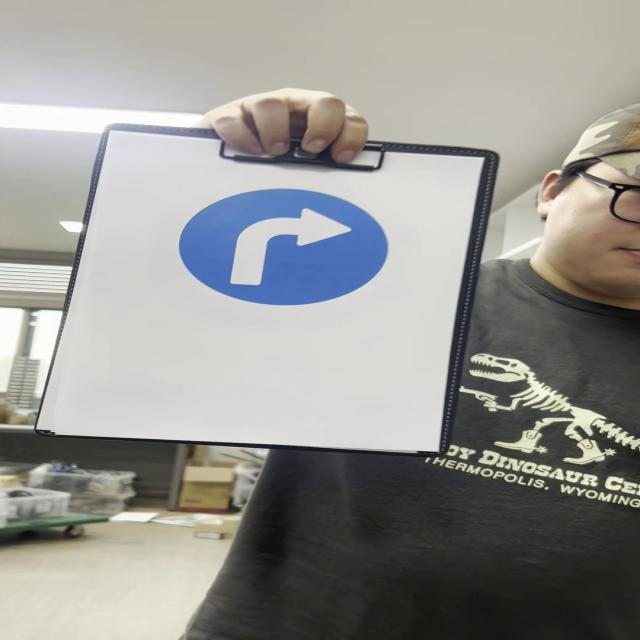right: (182, 188, 389, 305)
